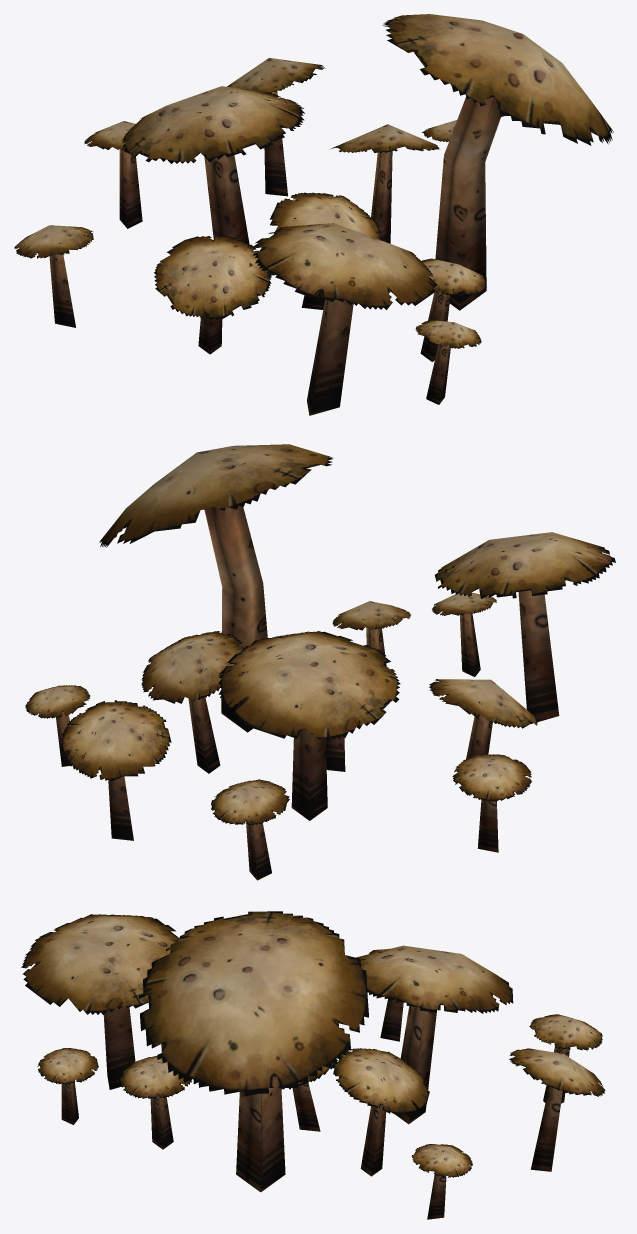
File: Mushroom.fbx
3 renders of one model, top to bottom at view 1: azimuth 30°, elevation 25°; view 2: azimuth 150°, elevation 25°; view 3: azimuth 270°, elevation 25°, orthographic. The views are drawn at different scales.
Visible parts, largest first — view 1: Mushrooms; view 2: Mushrooms; view 3: Mushrooms.
Boxes of the visible parts, box(x1,y1,x2,y2) form: Mushrooms: box(14, 14, 613, 415); Mushrooms: box(25, 444, 615, 880); Mushrooms: box(21, 911, 605, 1219).
Size of the model in its own units: 180 by 89.92 by 203.
